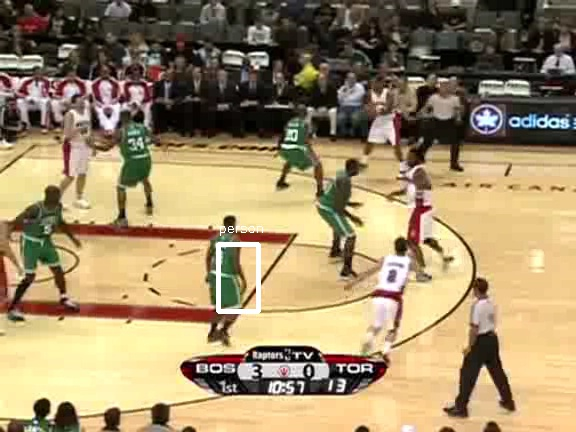person: (210, 229, 244, 310), (209, 229, 243, 310), (211, 229, 245, 310), (210, 228, 244, 309), (210, 230, 244, 311)
target_negative: (401, 215, 558, 370), (496, 67, 551, 415), (185, 363, 313, 402), (3, 147, 160, 173), (484, 396, 569, 422), (374, 429, 396, 432)
